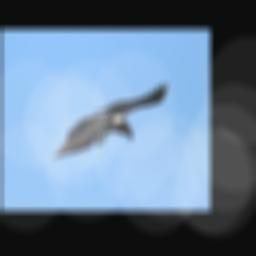Crow: (51, 80, 170, 158)
